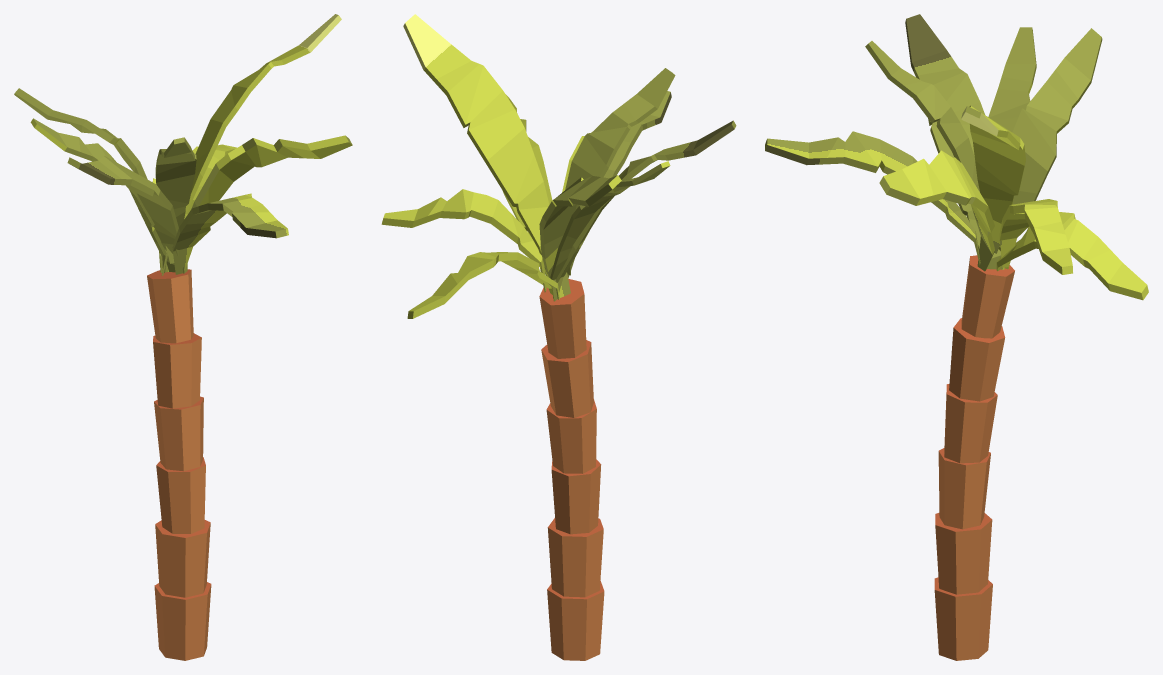
The model's file is Palm Tree 3.fbx.
The picture shows the model from 3 angles, left to right: view 1: azimuth 30°, elevation 25°; view 2: azimuth 150°, elevation 25°; view 3: azimuth 270°, elevation 25°; orthographic projection. The views are drawn at different scales.
Parts seen in each view (by area): view 1: Tree-3; view 2: Tree-3; view 3: Tree-3.
Boxes of the visible parts, bbox=[...] form: Tree-3: bbox=[14, 14, 352, 660]; Tree-3: bbox=[381, 14, 736, 660]; Tree-3: bbox=[765, 14, 1148, 660].
Bounding box in the file's own units: 145 × 276 × 154.
